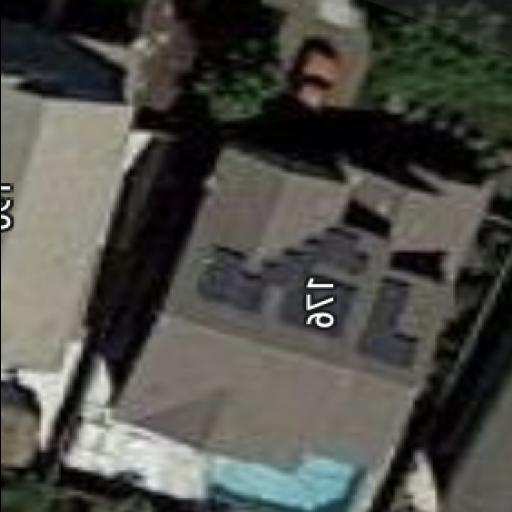Solar-Slope-Roof: (112, 150, 478, 473)
